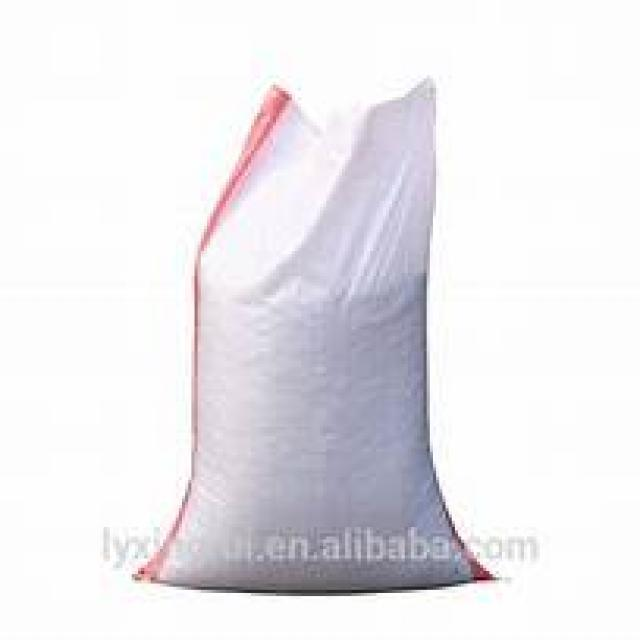gunny_bag: (133, 75, 485, 599)
